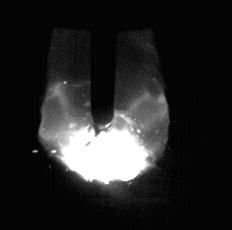arame: (90, 0, 116, 125)
poca: (37, 0, 169, 230)
